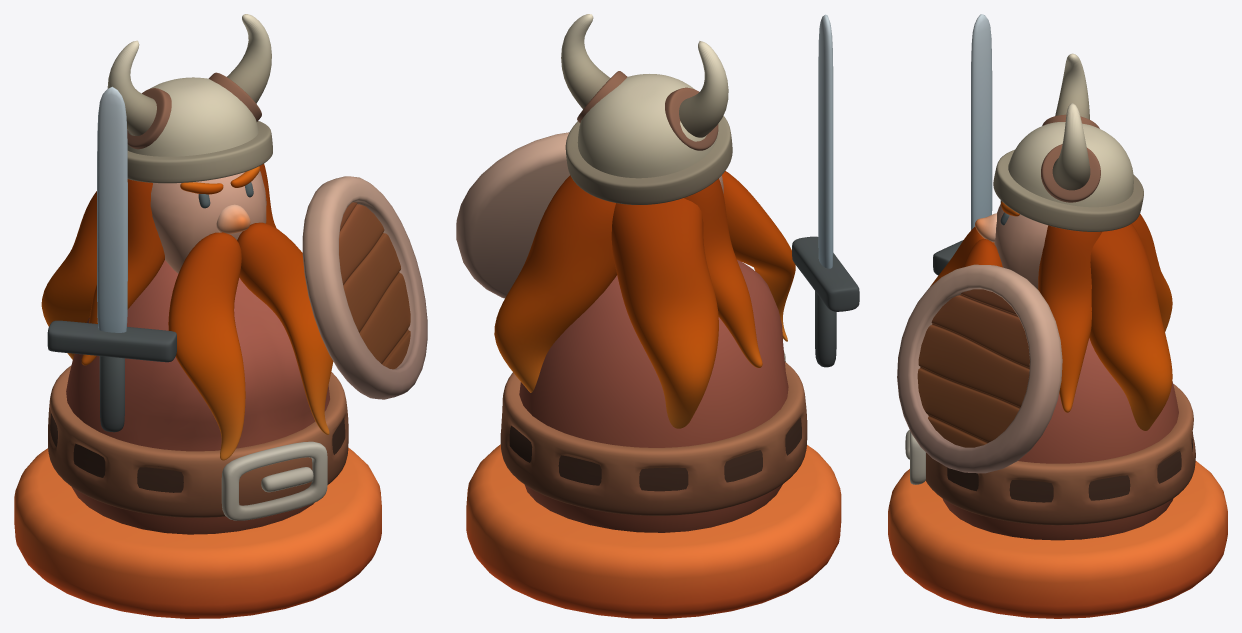
File: Shield maiden.fbx
The picture shows the model from 3 angles, left to right: view 1: azimuth 30°, elevation 25°; view 2: azimuth 150°, elevation 25°; view 3: azimuth 270°, elevation 25°; orthographic projection. The views are drawn at different scales.
Parts seen in each view (by area): view 1: shieldmaiden_Base_GEO, shieldmaiden_Stand_GEO, shieldmaiden_Weapon1_GEO, shieldmaiden_Weapon2_GEO; view 2: shieldmaiden_Base_GEO, shieldmaiden_Stand_GEO, shieldmaiden_Weapon1_GEO, shieldmaiden_Weapon2_GEO; view 3: shieldmaiden_Base_GEO, shieldmaiden_Stand_GEO, shieldmaiden_Weapon1_GEO, shieldmaiden_Weapon2_GEO.
Boxes of the visible parts, bbox=[...] form: shieldmaiden_Base_GEO: bbox=[41, 14, 348, 534]; shieldmaiden_Stand_GEO: bbox=[14, 447, 381, 618]; shieldmaiden_Weapon1_GEO: bbox=[302, 176, 427, 399]; shieldmaiden_Weapon2_GEO: bbox=[47, 86, 176, 432]; shieldmaiden_Base_GEO: bbox=[494, 14, 807, 532]; shieldmaiden_Stand_GEO: bbox=[466, 444, 841, 618]; shieldmaiden_Weapon1_GEO: bbox=[456, 132, 569, 298]; shieldmaiden_Weapon2_GEO: bbox=[792, 14, 859, 367]; shieldmaiden_Base_GEO: bbox=[905, 53, 1195, 540]; shieldmaiden_Stand_GEO: bbox=[888, 461, 1227, 618]; shieldmaiden_Weapon1_GEO: bbox=[897, 264, 1062, 473]; shieldmaiden_Weapon2_GEO: bbox=[933, 14, 992, 275].
Bounding box in the file's own units: 95.48 × 126 × 80.03.
